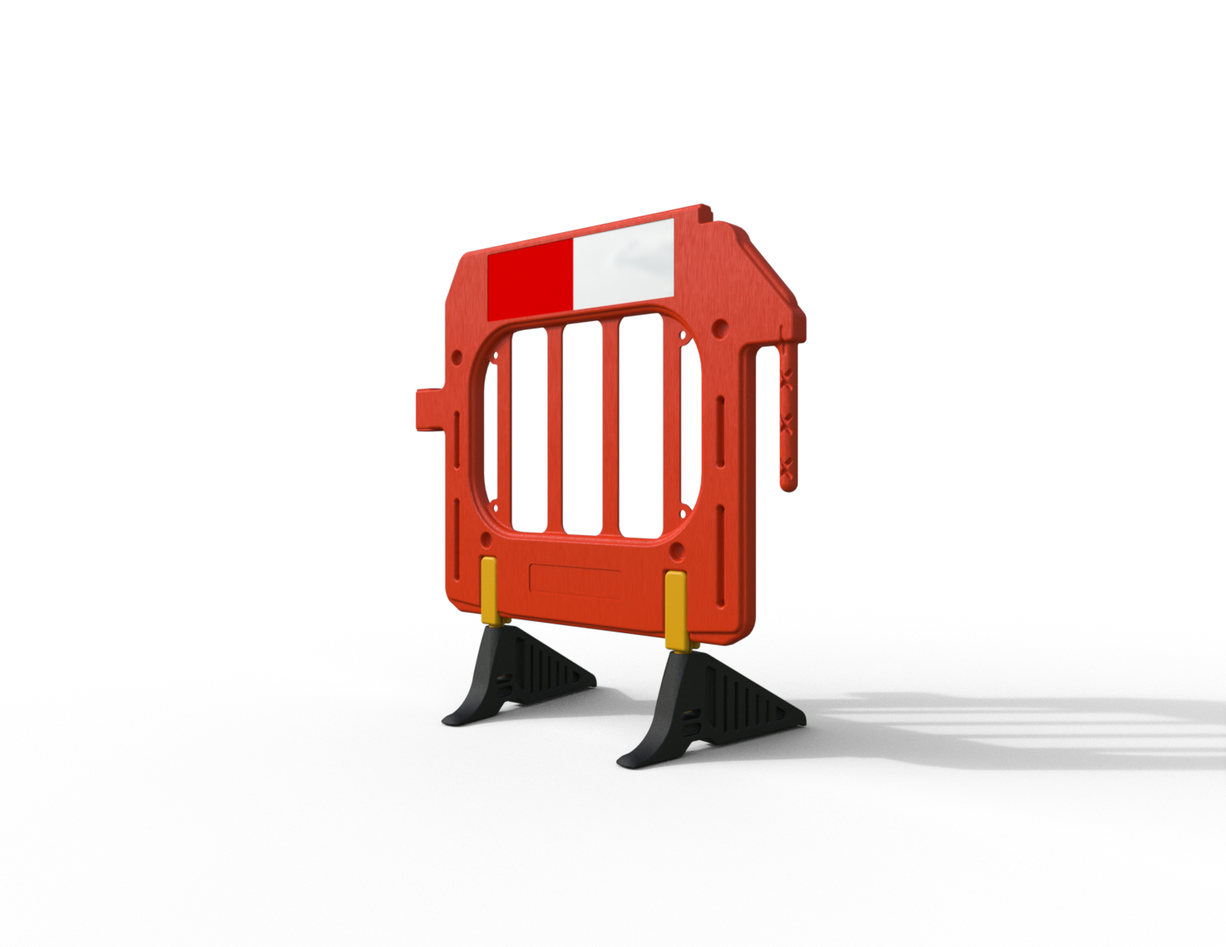Barrier: (398, 192, 857, 788)
